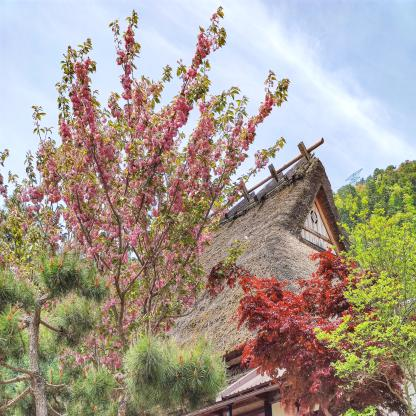YaeSakura: (0, 0, 282, 383)
